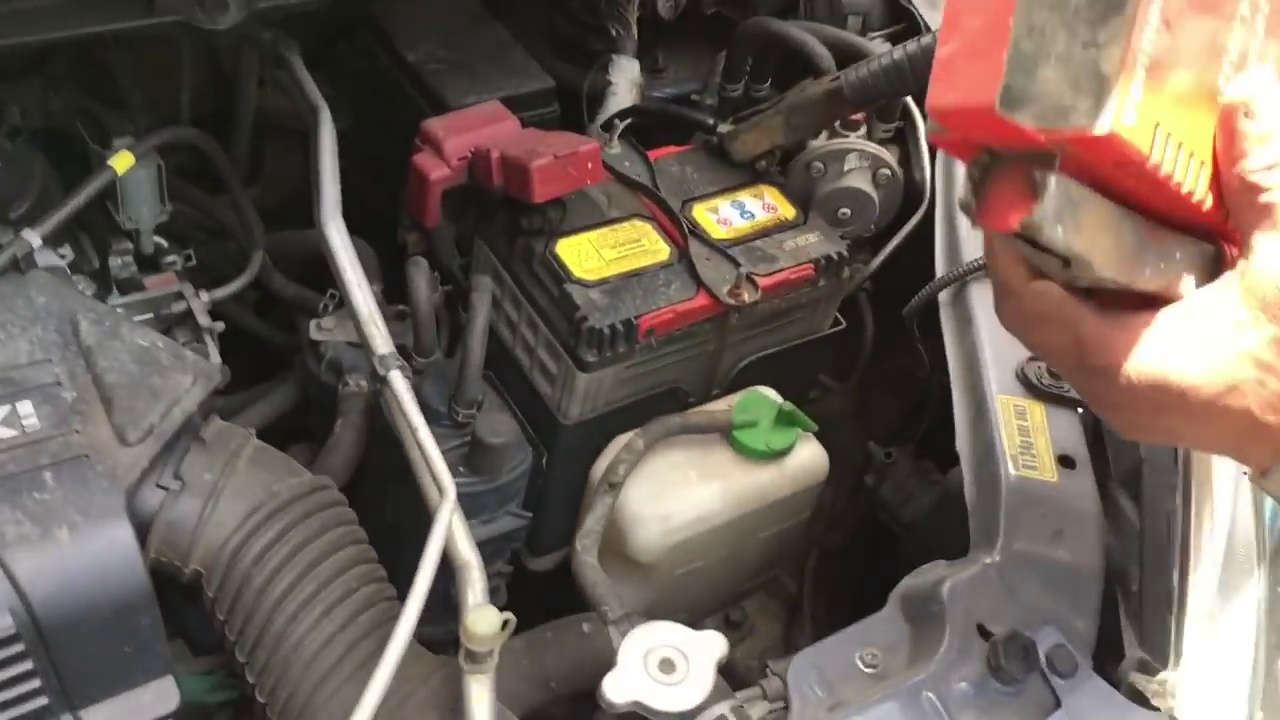battery: (423, 110, 865, 368)
pos_connected: (445, 106, 612, 240)
